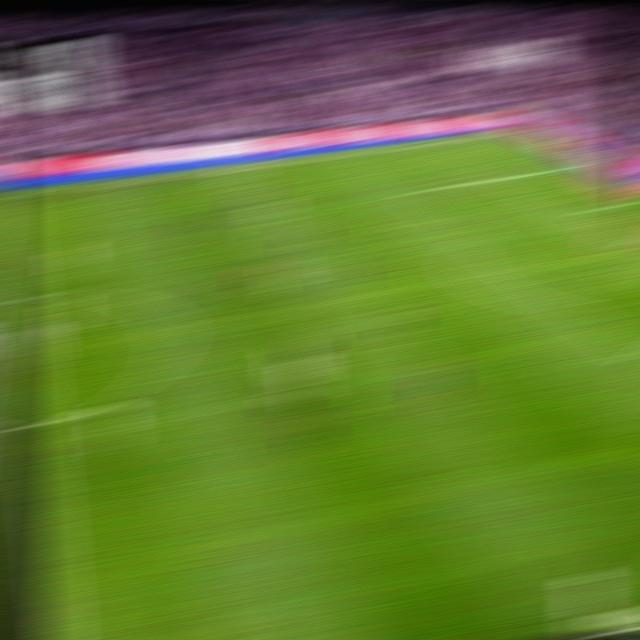bigarea_top_inner: (400, 184, 429, 197)
bottom_arc_area_intersection: (552, 298, 584, 314)
corner: (486, 130, 516, 137)
halfcircle_bottom: (20, 409, 55, 437)
halfcircle_top: (7, 287, 40, 308)
midline_top_intersection: (0, 189, 26, 200)
smallarea_top_inner: (568, 206, 597, 215)
top_arc_area_intersection: (459, 229, 489, 242)
